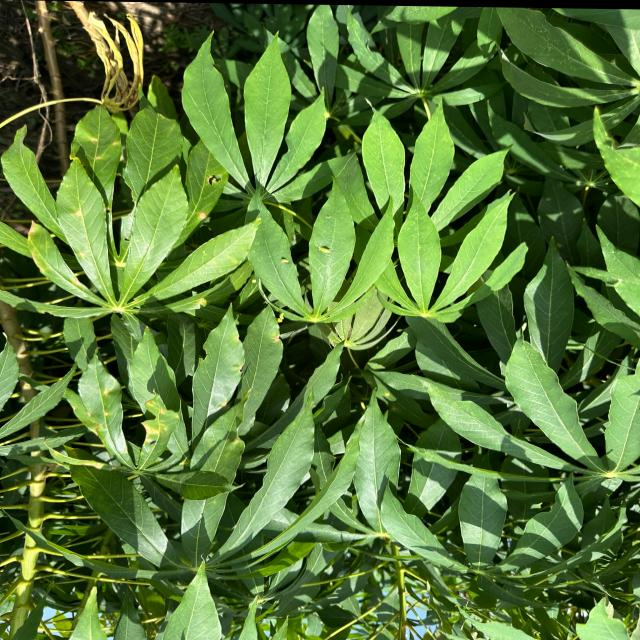Mosca: (191, 543, 216, 566), (313, 232, 333, 258), (117, 316, 135, 341), (243, 272, 268, 288), (351, 397, 371, 416), (191, 293, 209, 310), (269, 307, 288, 323), (275, 250, 290, 270)
